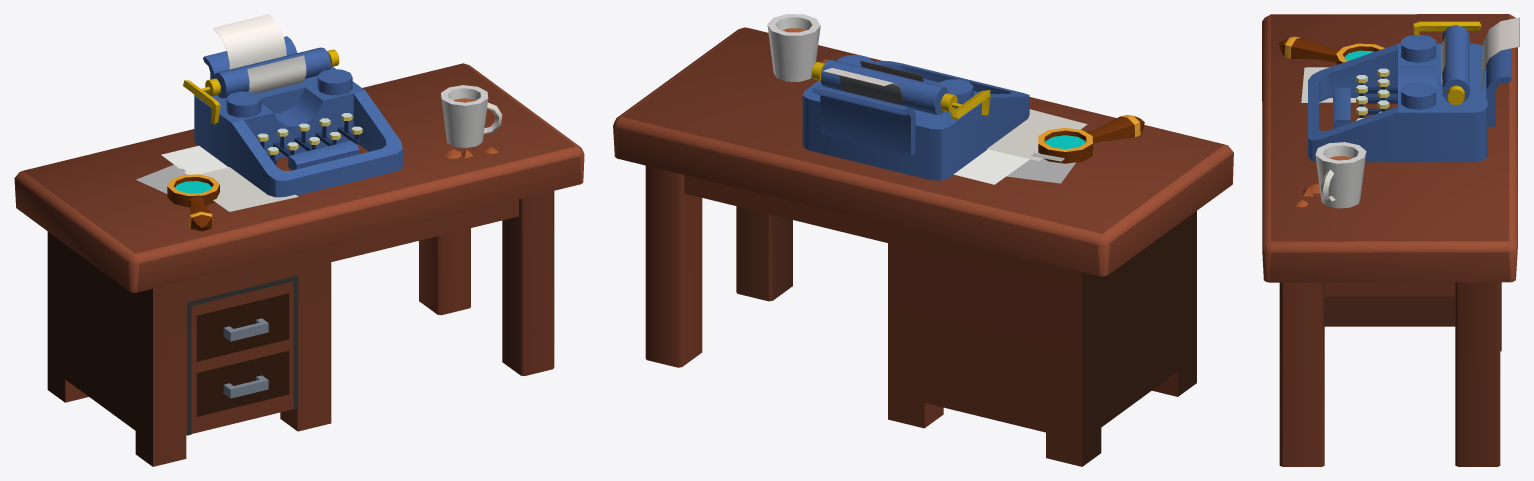
Rendered from office_table.fbx.
3 views of the same model, side by side, from view 1: azimuth 30°, elevation 25°; view 2: azimuth 150°, elevation 25°; view 3: azimuth 270°, elevation 25° (orthographic). The views are drawn at different scales.
Visible parts, largest first — view 1: polySurface132; view 2: polySurface132; view 3: polySurface132.
Boxes of the visible parts, <box> form: polySurface132: <box>14,14,584,466</box>; polySurface132: <box>613,14,1233,466</box>; polySurface132: <box>1262,14,1519,466</box>.
Size of the model in its own units: 2.17 by 1.43 by 1.01.
